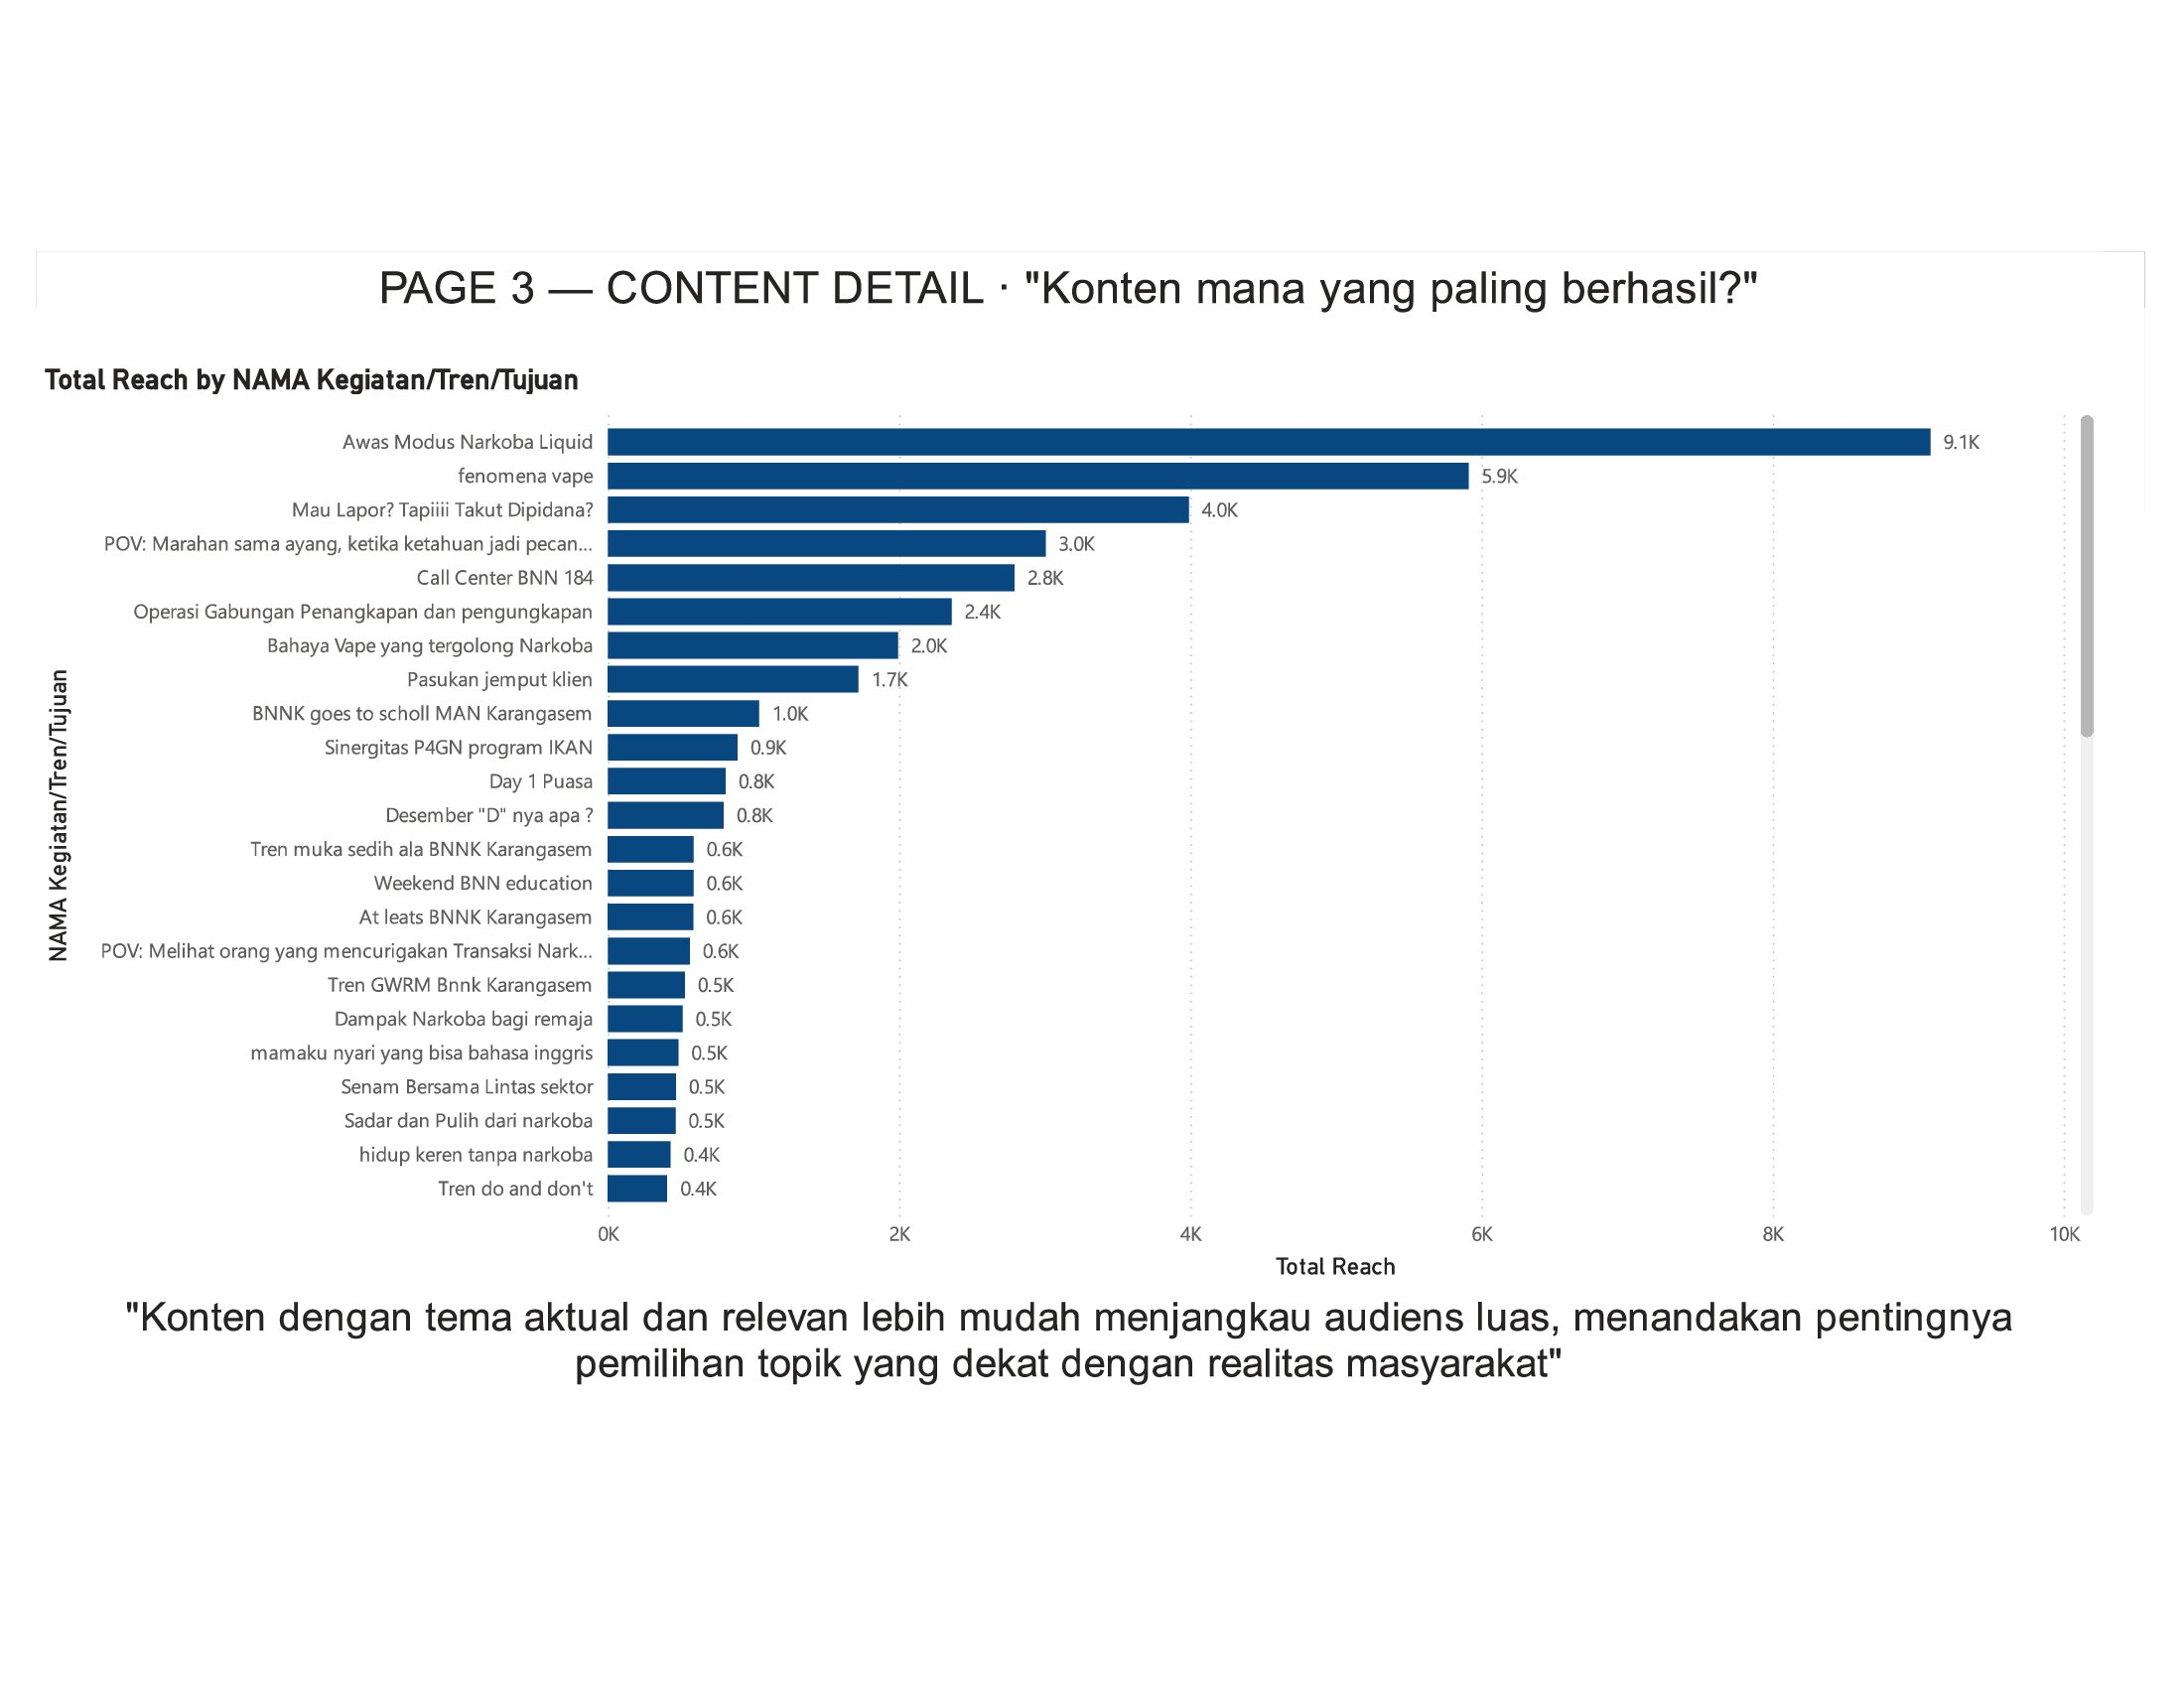

The page's visual inventory and layout, read from the dashboard file:
{"tool":"powerbi","page":{"name":"Page 3","canvas":[1280,720],"ordinal":2},"visuals":[{"type":"clusteredBarChart","fields":{"Category":["dim_content.NAMA Kegiatan/Tren/Tujuan"],"Y":["fact_performance.Total Reach"]},"box":[0,67,1254.1,560.8],"z":0},{"type":"textbox","box":[0,627.8,1254.1,93],"z":1000},{"type":"textbox","box":[0,0,1254.1,67],"z":2000}]}

Visuals, with their boxes on the page's 1280x720 design canvas (x1, y1, x2, y2). These are canvas units, not pixel positions in the 2184x1688 screenshot, which may show the page scaled, cropped or inside an application window:
clusteredBarChart - dim_content.NAMA Kegiatan/Tren/Tujuan x fact_performance.Total Reach: {"x1": 0, "y1": 67, "x2": 1254, "y2": 628}
textbox: {"x1": 0, "y1": 628, "x2": 1254, "y2": 721}
textbox: {"x1": 0, "y1": 0, "x2": 1254, "y2": 67}
